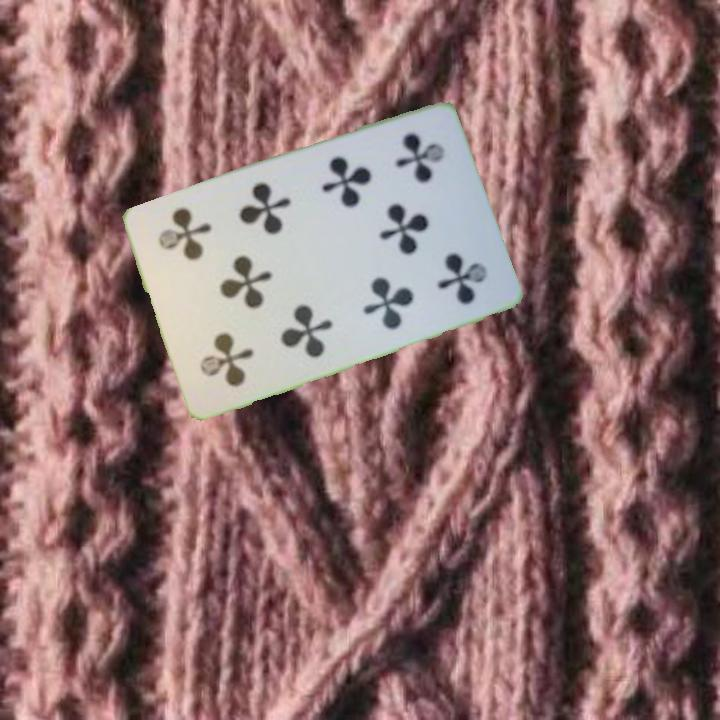c_10.png: (359, 113, 472, 235), (170, 282, 283, 404)
